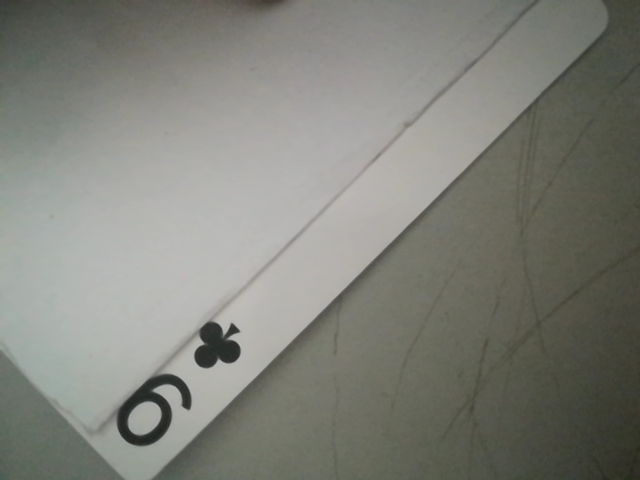mh 9: (100, 312, 253, 471)
